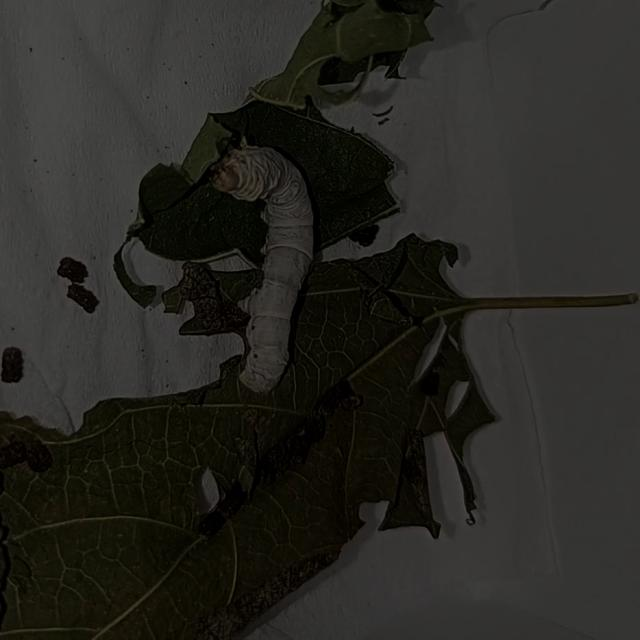Healthy: (206, 107, 342, 413)
